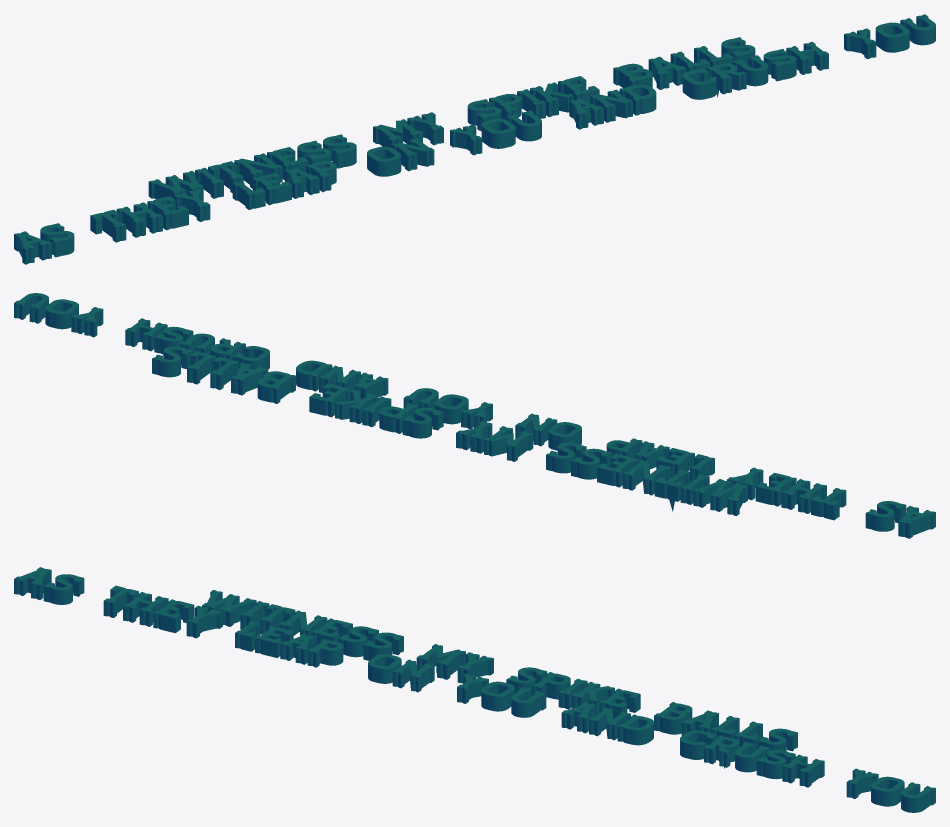
Rendered from SpikeBallLeap.fbx.
The picture shows the model from 3 angles, top to bottom: view 1: azimuth 30°, elevation 25°; view 2: azimuth 150°, elevation 25°; view 3: azimuth 330°, elevation 25°; orthographic projection.
Visible parts, largest first — view 1: Text; view 2: Text; view 3: Text.
Boxes of the visible parts, bbox=[...] form: Text: bbox=[14, 14, 935, 264]; Text: bbox=[14, 293, 935, 538]; Text: bbox=[14, 567, 935, 812].
Bounding box in the file's own units: 2995 × 94 × 226.
